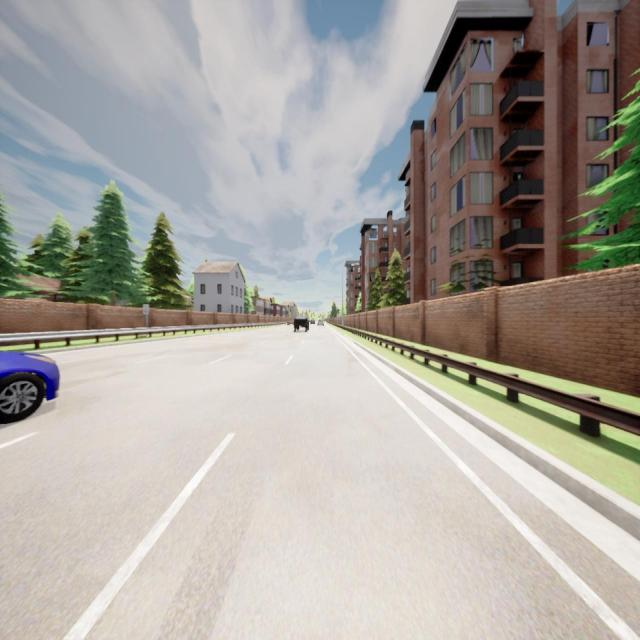Traffic_Signs: (142, 305, 150, 314)
Vehicle: (0, 350, 60, 423), (294, 316, 309, 333), (317, 318, 324, 328), (310, 316, 316, 325)
